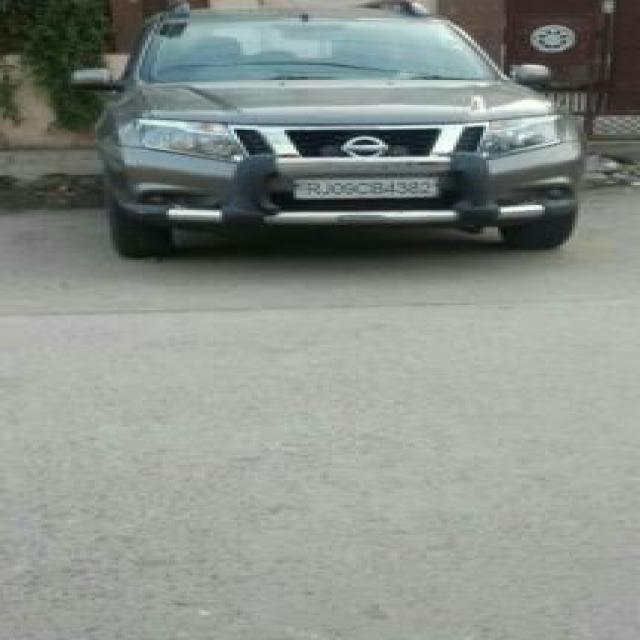license-plate: (288, 175, 436, 197)
